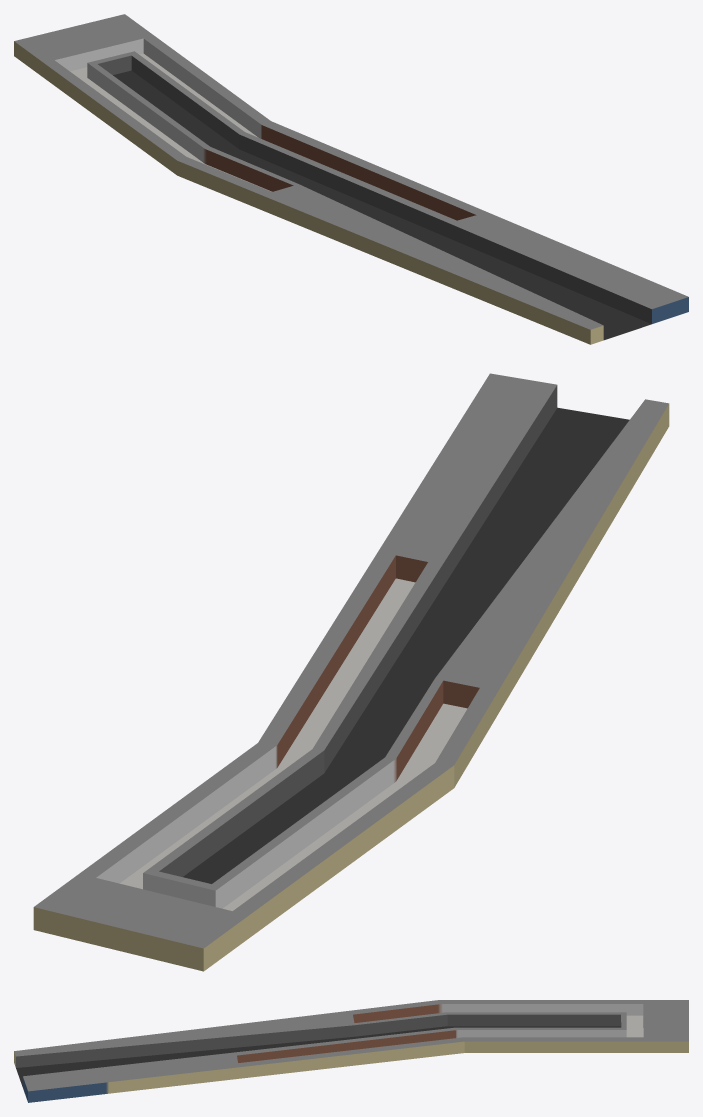
File: thirdfloor.obj
The picture shows the model from 3 angles, top to bottom: view 1: azimuth 30°, elevation 25°; view 2: azimuth 150°, elevation 25°; view 3: azimuth 270°, elevation 25°; orthographic projection. The views are drawn at different scales.
Parts seen in each view (by area): view 1: soraria3f_Plane.003; view 2: soraria3f_Plane.003; view 3: soraria3f_Plane.003.
Boxes of the visible parts, box(x1,y1,x2,y2) form: soraria3f_Plane.003: box(14, 14, 688, 344); soraria3f_Plane.003: box(33, 373, 669, 971); soraria3f_Plane.003: box(14, 1000, 688, 1102).
Size of the model in its own units: 0.6576 by 0.0386 by 2.05.
Materials: 1 (1 with a texture image).
